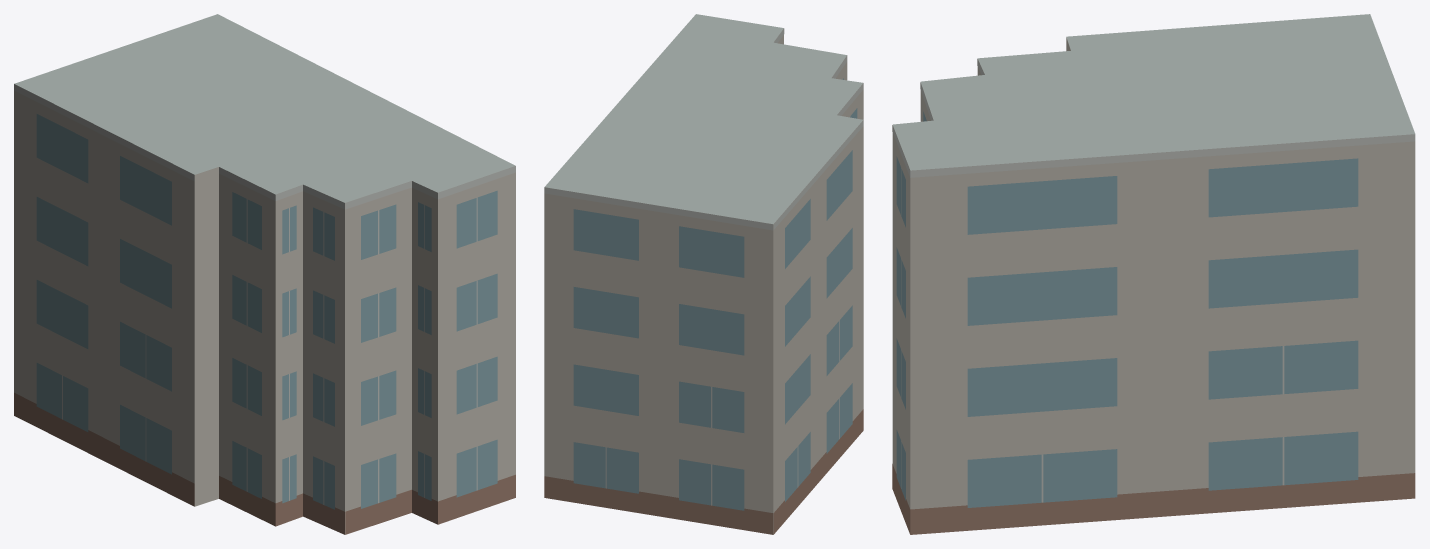
The model's file is survey-upis-32763397.glb.
3 renders of one model, left to right at view 1: azimuth 30°, elevation 25°; view 2: azimuth 150°, elevation 25°; view 3: azimuth 270°, elevation 25°, orthographic. The views are drawn at different scales.
Visible parts, largest first — view 1: survey-upis-32763397.tmp; view 2: survey-upis-32763397.tmp; view 3: survey-upis-32763397.tmp.
Boxes of the visible parts, bbox=[...] form: survey-upis-32763397.tmp: bbox=[14, 14, 515, 534]; survey-upis-32763397.tmp: bbox=[544, 14, 863, 534]; survey-upis-32763397.tmp: bbox=[892, 14, 1415, 534].
Bounding box in the file's own units: 11.25 × 12.2 × 15.88.
